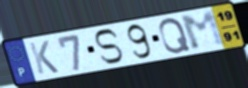7: (55, 33, 83, 73)
9: (125, 23, 154, 60)
K: (27, 39, 61, 76)
M: (178, 9, 229, 52)
Q: (158, 16, 193, 55)
S: (93, 27, 125, 66)
